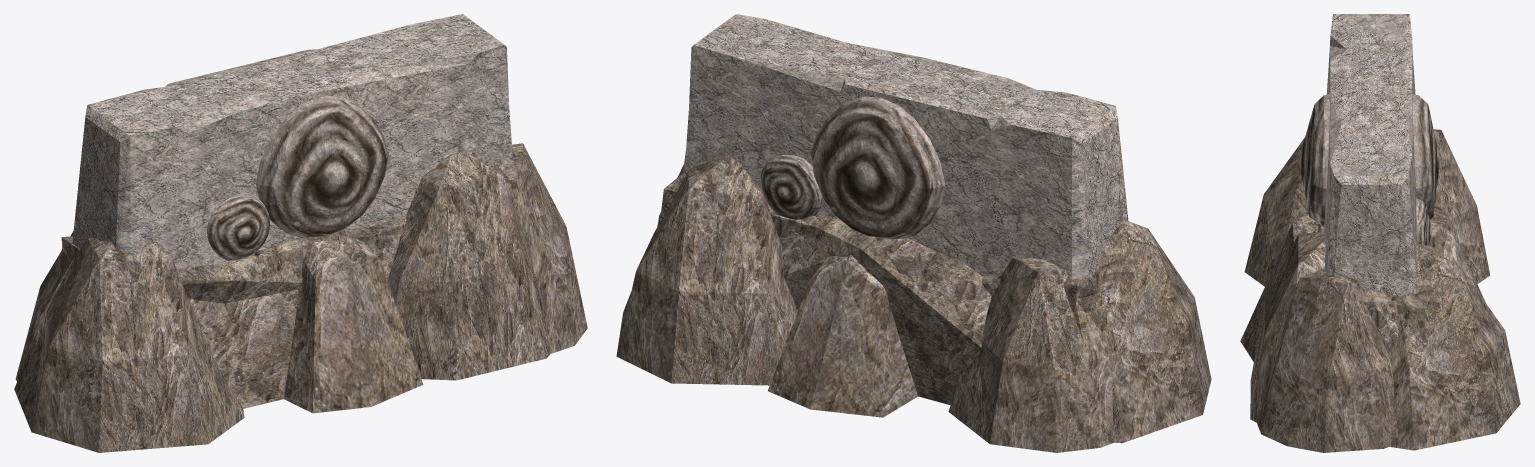
Rendered from thm_dath_mtn_clan_strong_fence_s01_l0.fbx.
3 views of the same model, side by side, from view 1: azimuth 30°, elevation 25°; view 2: azimuth 150°, elevation 25°; view 3: azimuth 270°, elevation 25° (orthographic). The views are drawn at different scales.
Visible parts, largest first — view 1: mesh_node; view 2: mesh_node; view 3: mesh_node.
Part boxes in pixels (bbox=[...]): mesh_node: bbox=[14, 14, 587, 452]; mesh_node: bbox=[616, 14, 1211, 452]; mesh_node: bbox=[1240, 14, 1520, 452].
Bounding box in the file's own units: 11.15 × 5.54 × 5.67.
